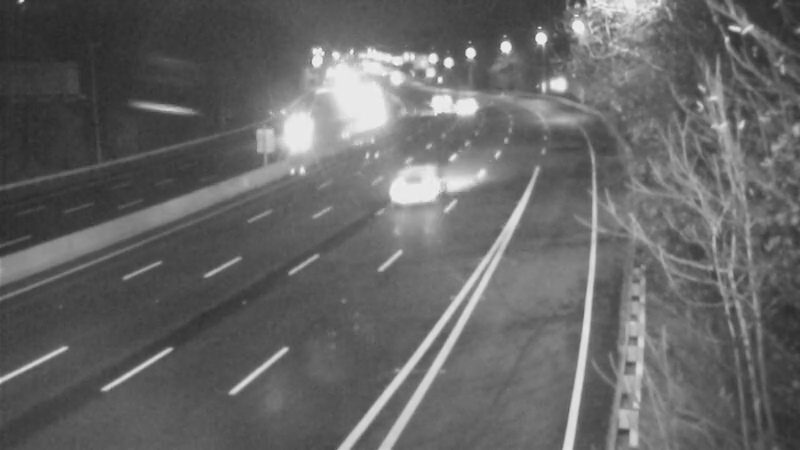vehicle: (377, 135, 457, 215), (412, 72, 462, 122), (438, 81, 488, 131), (271, 109, 321, 159)
